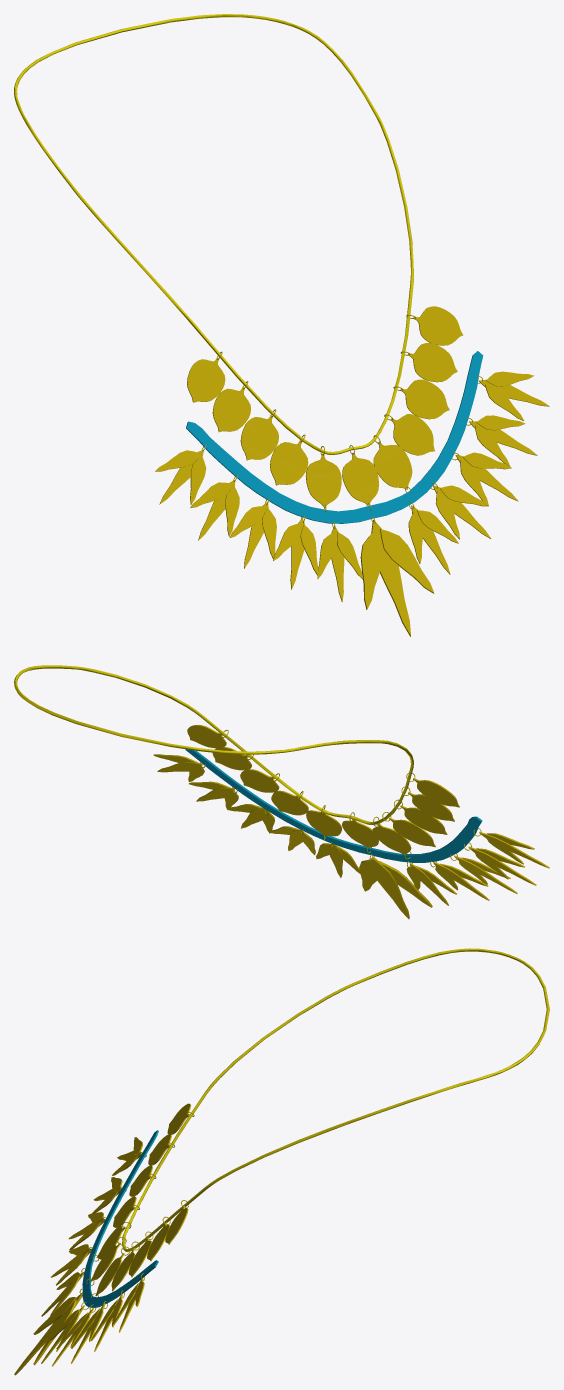
File: corn_necklace.glb
3 renders of one model, top to bottom at view 1: azimuth 30°, elevation 25°; view 2: azimuth 150°, elevation 25°; view 3: azimuth 270°, elevation 25°, orthographic. The views are drawn at different scales.
Visible parts, largest first — view 1: Object_6, Object_4, Object_7, Object_3; view 2: Object_6, Object_4, Object_3, Object_7; view 3: Object_6, Object_4, Object_3, Object_7.
Part boxes in pixels (left/top/right/bottom): Object_6: left=155, top=371, right=549, bottom=636; Object_4: left=187, top=306, right=463, bottom=507; Object_7: left=186, top=351, right=483, bottom=523; Object_3: left=14, top=14, right=413, bottom=454; Object_6: left=153, top=754, right=549, bottom=919; Object_4: left=187, top=724, right=459, bottom=855; Object_3: left=14, top=665, right=413, bottom=824; Object_7: left=185, top=749, right=482, bottom=862; Object_6: left=14, top=1137, right=144, bottom=1375; Object_4: left=90, top=1103, right=190, bottom=1296; Object_3: left=122, top=948, right=549, bottom=1252; Object_7: left=82, top=1130, right=158, bottom=1307.
Size of the model in its own units: 0.0702 by 0.068 by 0.09.
